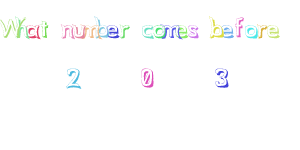0: (133, 63, 163, 91)
2: (58, 63, 91, 95)
3: (208, 62, 233, 91)
W: (1, 14, 18, 42)
a: (25, 19, 43, 43)
b: (205, 10, 224, 42), (95, 14, 108, 40)
c: (139, 20, 154, 41)
e: (265, 21, 283, 42), (219, 21, 235, 41), (106, 21, 119, 42), (175, 19, 188, 40)
f: (232, 10, 245, 41)
h: (14, 14, 30, 42)
m: (160, 18, 180, 41), (82, 19, 101, 42)
n: (58, 19, 75, 40)
o: (152, 19, 168, 41), (243, 21, 258, 42)
r: (117, 20, 133, 41), (254, 21, 267, 41)
s: (187, 19, 202, 40)
t: (39, 16, 52, 40)
u: (71, 20, 87, 41)
